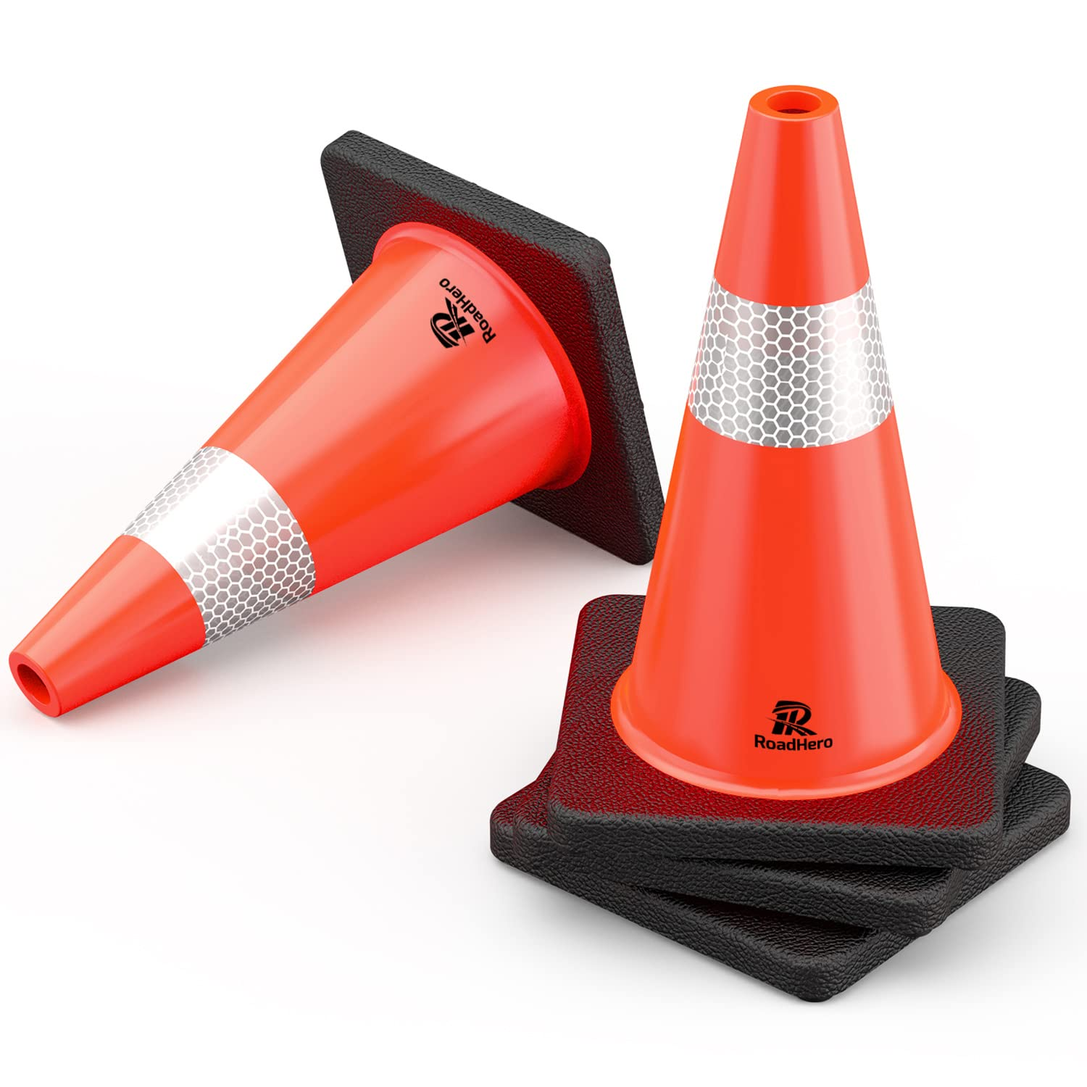Road_cone: (546, 77, 1028, 857), (4, 157, 673, 646)
